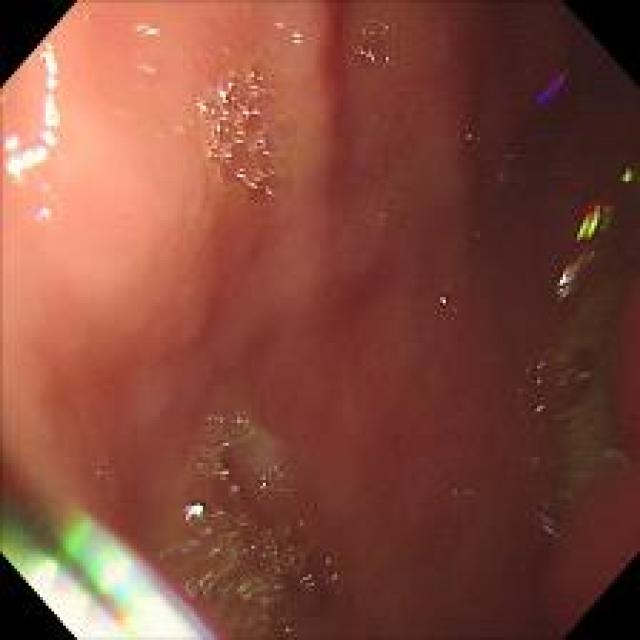bubbles: (170, 416, 338, 629), (199, 65, 292, 205), (349, 16, 401, 65)
color misalignment: (11, 506, 201, 631), (558, 166, 632, 301), (519, 350, 560, 541), (559, 342, 590, 405), (535, 61, 571, 111)
contrast: (472, 16, 631, 289)
specularity: (2, 42, 62, 172), (30, 556, 90, 624), (99, 556, 125, 591), (134, 16, 170, 40), (235, 169, 262, 189), (182, 502, 205, 520), (256, 128, 270, 154), (34, 205, 54, 222), (211, 121, 229, 136), (240, 108, 261, 120), (220, 81, 234, 98), (291, 31, 300, 48), (198, 101, 208, 115), (438, 295, 448, 306)
